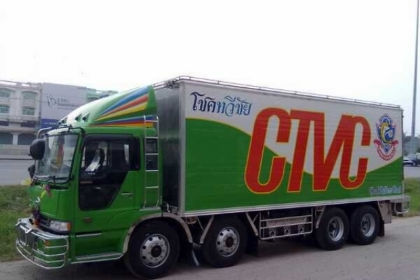truck: (27, 75, 409, 279)
